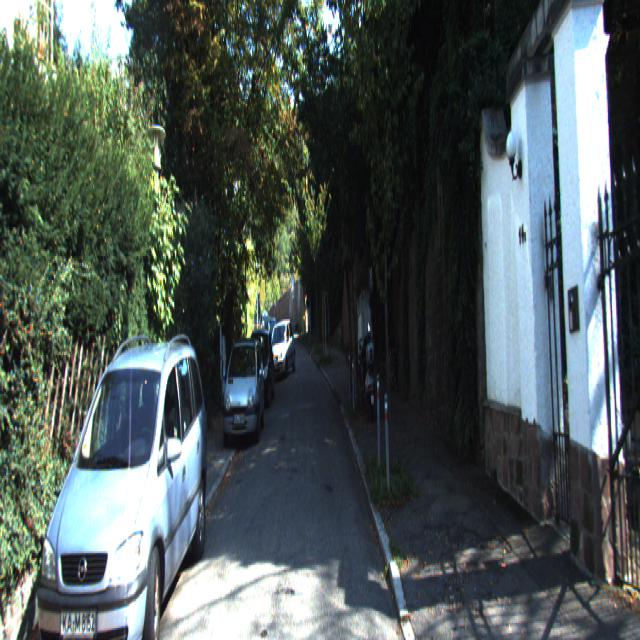Car: (35, 326, 208, 638), (221, 333, 265, 452), (266, 316, 296, 382), (362, 314, 376, 415)
